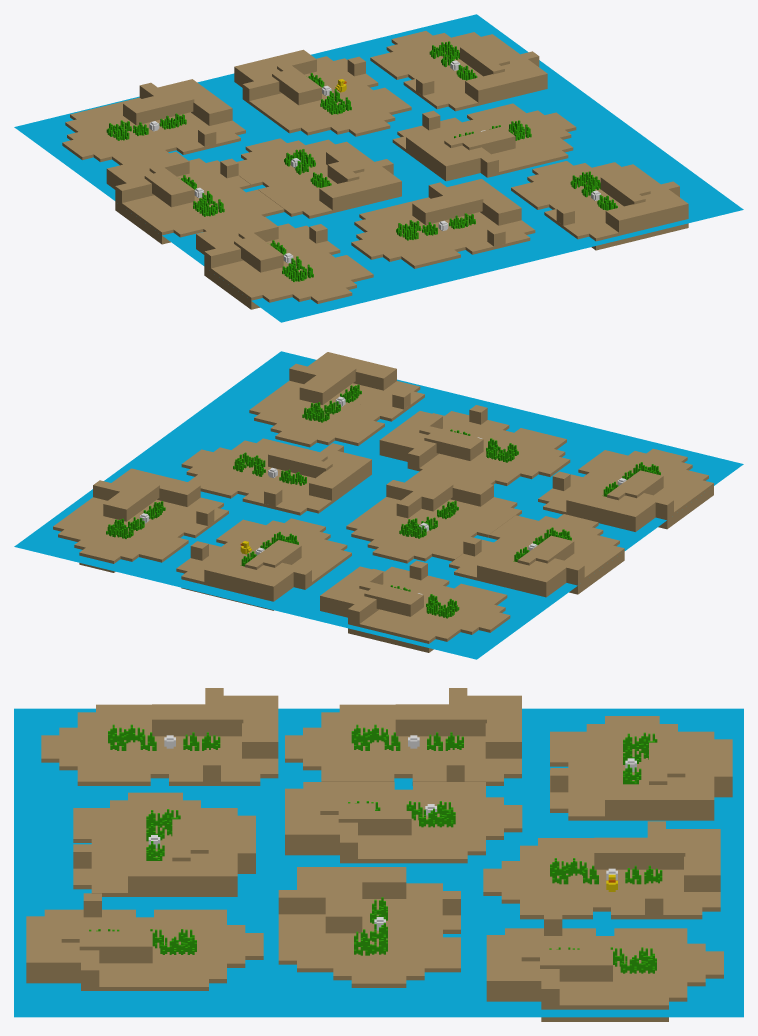
File: envFPO.fbx
The picture shows the model from 3 angles, top to bottom: view 1: azimuth 30°, elevation 25°; view 2: azimuth 150°, elevation 25°; view 3: azimuth 270°, elevation 25°; orthographic projection. The views are drawn at different scales.
Visible parts, largest first — view 1: land, water; view 2: land, water; view 3: land, water.
Part boxes in pixels (left/top/right/bottom): land: left=62, top=31, right=688, bottom=309; water: left=14, top=14, right=743, bottom=322; land: left=53, top=352, right=713, bottom=652; water: left=14, top=351, right=743, bottom=659; land: left=26, top=688, right=732, bottom=1021; water: left=14, top=708, right=743, bottom=1017.
Bounding box in the file's own units: 4 × 0.2225 × 4.
